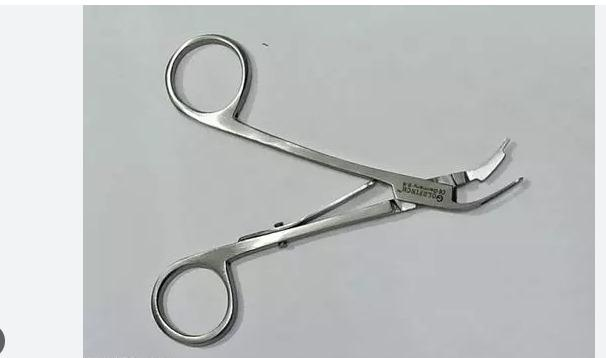Stapler Remover: (149, 28, 527, 346)
